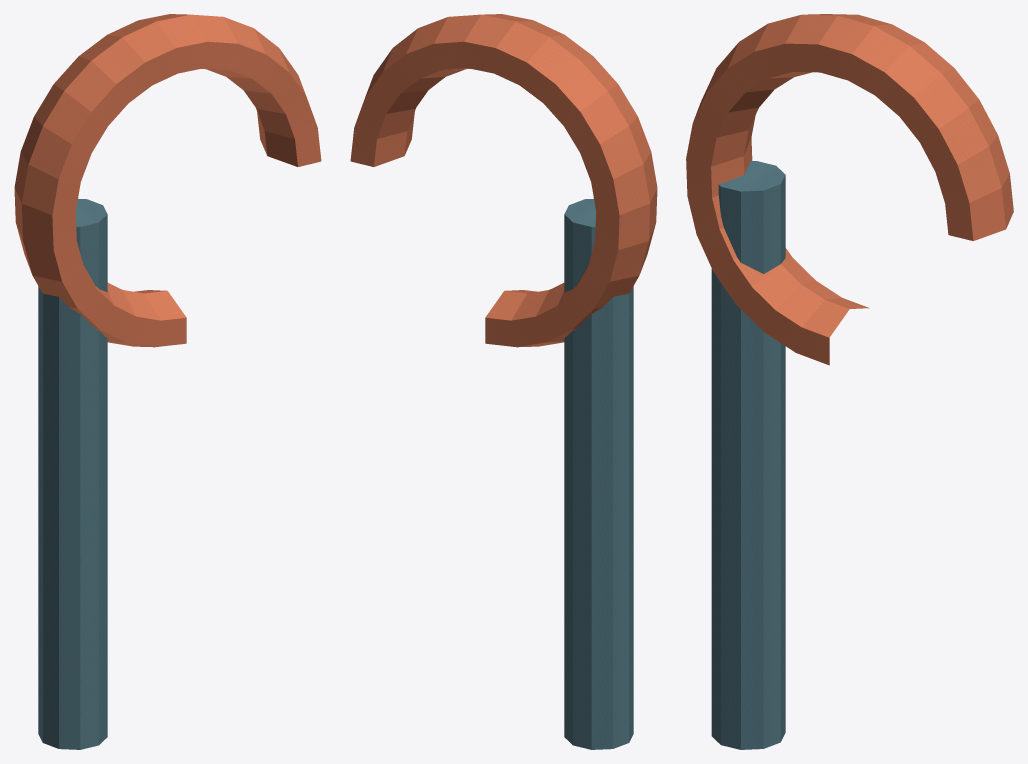
Rendered from atlas100-s048-a05.glb.
3 renders of one model, left to right at view 1: azimuth 30°, elevation 25°; view 2: azimuth 150°, elevation 25°; view 3: azimuth 330°, elevation 25°, orthographic. The views are drawn at different scales.
Parts seen in each view (by area): view 1: atlas100-s048-a05:part-001, atlas100-s048-a05:part-000; view 2: atlas100-s048-a05:part-001, atlas100-s048-a05:part-000; view 3: atlas100-s048-a05:part-001, atlas100-s048-a05:part-000.
Boxes of the visible parts, <box> form: atlas100-s048-a05:part-001: <box>14,14,321,347</box>; atlas100-s048-a05:part-000: <box>38,198,107,749</box>; atlas100-s048-a05:part-001: <box>350,14,657,347</box>; atlas100-s048-a05:part-000: <box>564,198,633,749</box>; atlas100-s048-a05:part-001: <box>686,14,1013,365</box>; atlas100-s048-a05:part-000: <box>711,161,785,749</box>.
Bounding box in the file's own units: 0.3707 × 0.8402 × 0.0832.
2 materials, 2 textured.
